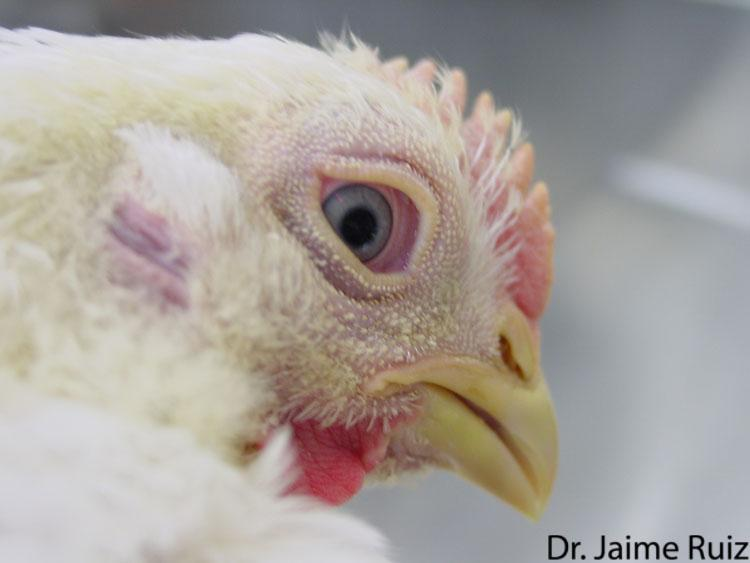AbNormal: (358, 39, 556, 354)
